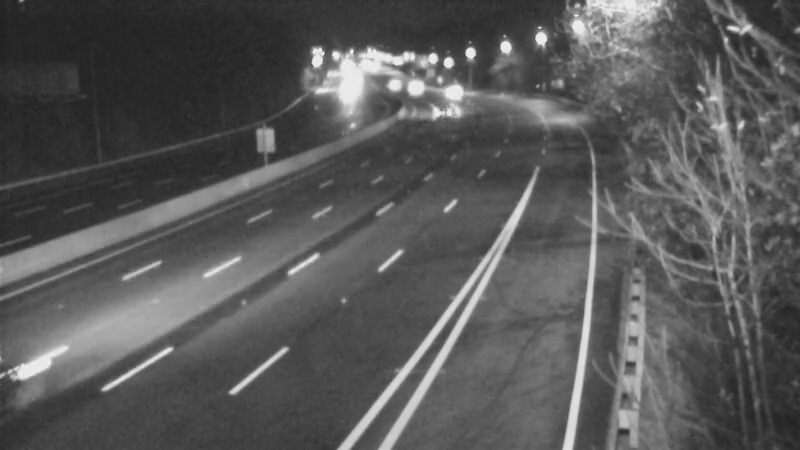vehicle: (364, 60, 414, 110), (387, 61, 437, 111), (423, 65, 473, 115), (419, 87, 469, 137), (324, 70, 374, 120)
